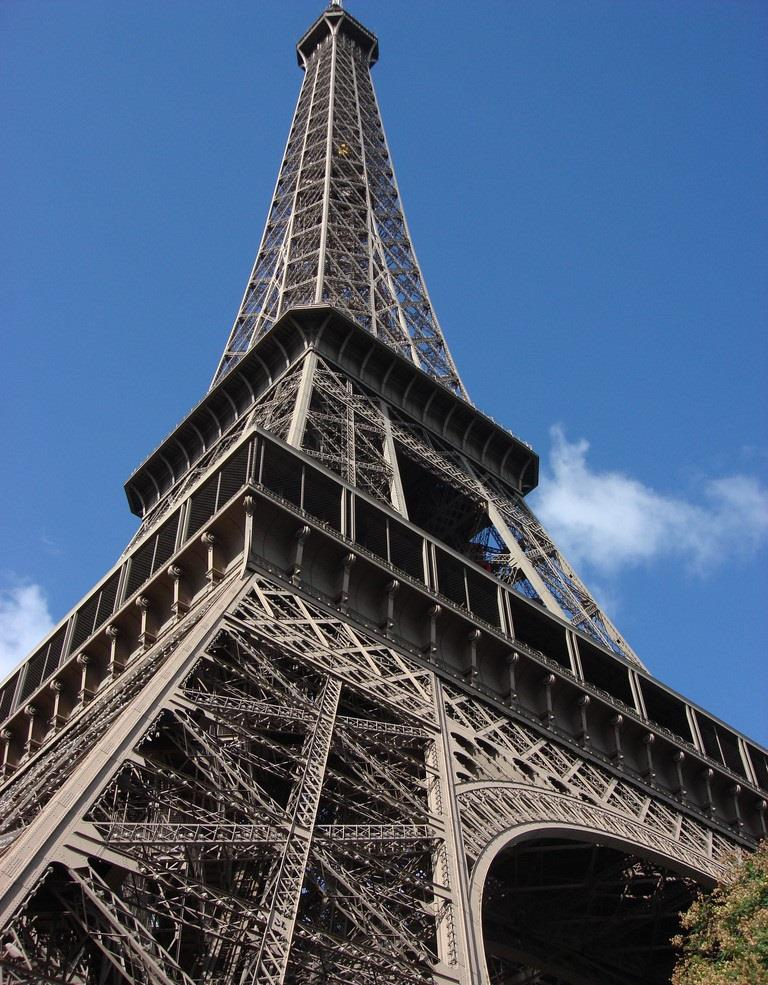Eiffel: (15, 2, 685, 970)
